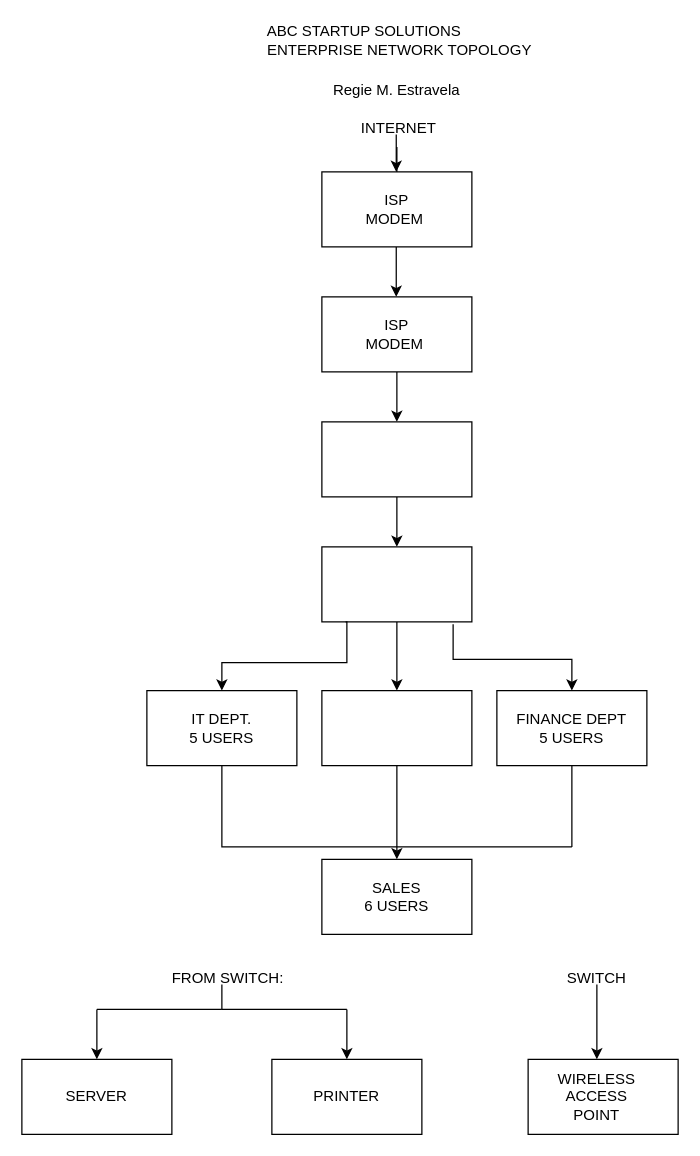
This 700x1156 diagram has some shape labels left out. The shapes that lost their labels are listed below. From the top down, each one's box as (x1, y1, x2, y2) in pixels, then its label:
(321, 421, 472, 497): FIREWALL
(321, 546, 472, 622): MANAGED SWITCH
(321, 689, 472, 766): HR DEPT. 4 USERS
